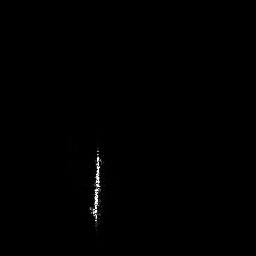ship: (88, 145, 105, 230)
